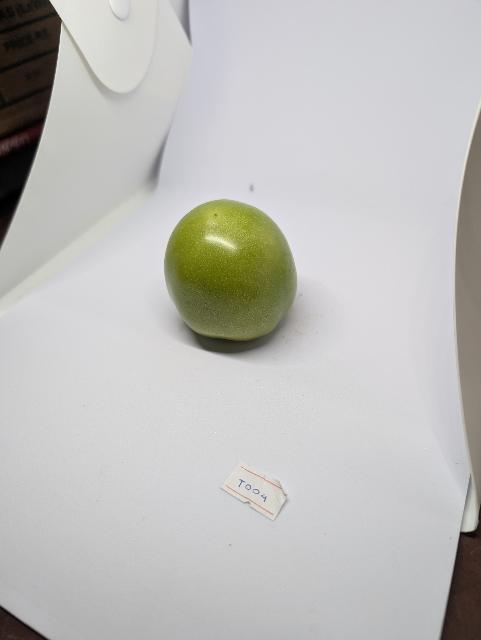green: (163, 199, 301, 345)
